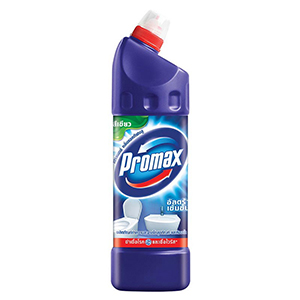Cleaning_solution: (108, 6, 193, 296)
